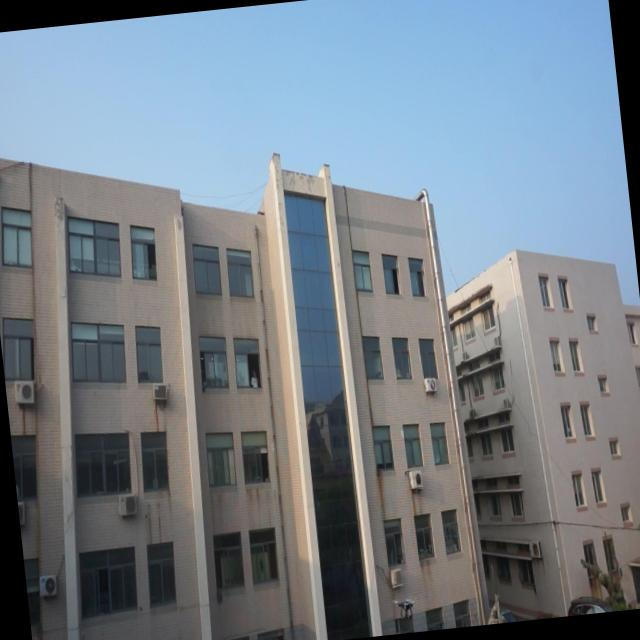drone: (391, 594, 416, 622)
